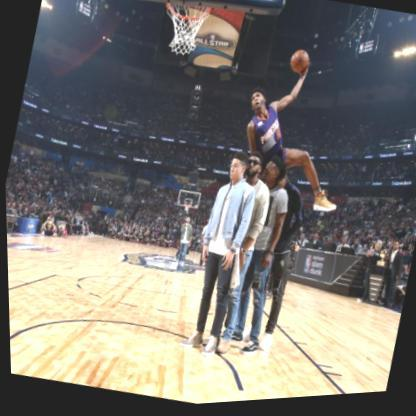basketball: (288, 52, 311, 80)
rim: (154, 0, 214, 64)
